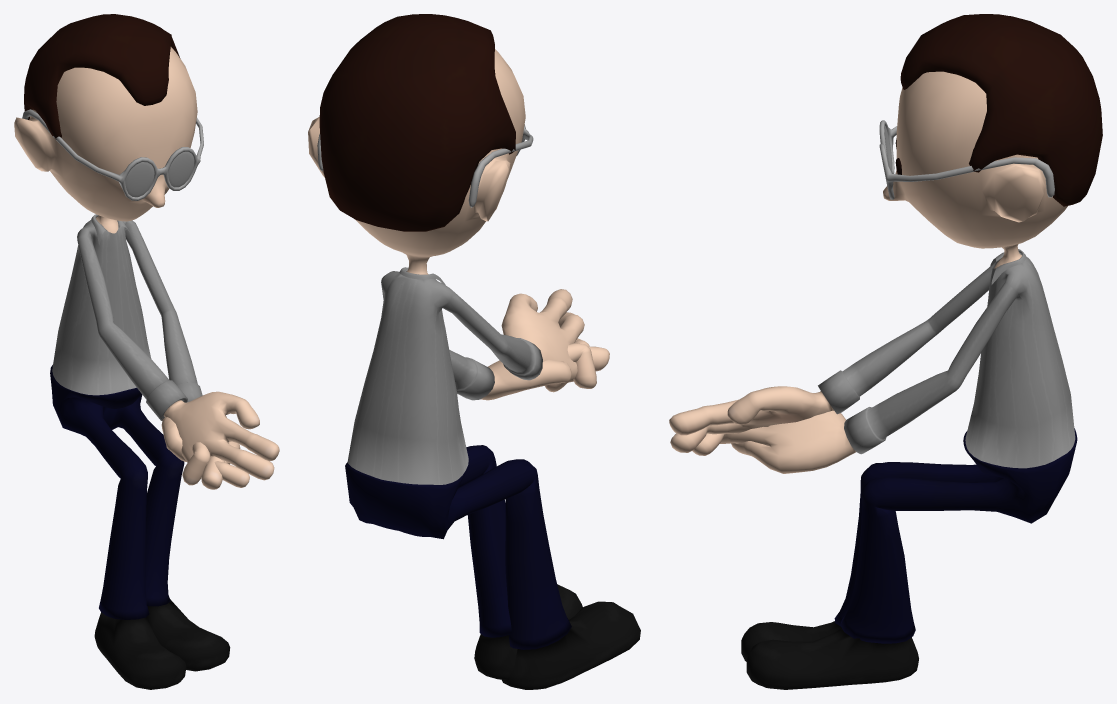
File: Animation_Cartoon_ForChairO.obj
The picture shows the model from 3 angles, left to right: view 1: azimuth 30°, elevation 25°; view 2: azimuth 150°, elevation 25°; view 3: azimuth 270°, elevation 25°; orthographic projection. The views are drawn at different scales.
Visible parts, largest first — view 1: bm_09; view 2: bm_09; view 3: bm_09.
Part boxes in pixels (x1,y1,x2,y2): bm_09: (14, 14, 279, 689); bm_09: (308, 14, 640, 689); bm_09: (669, 14, 1102, 689).
Bounding box in the file's own units: 0.4055 × 1.35 × 0.7969.
3 materials, 1 textured.
